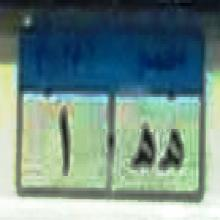1: (57, 102, 76, 184)
haa: (126, 119, 156, 179), (158, 118, 184, 178)
